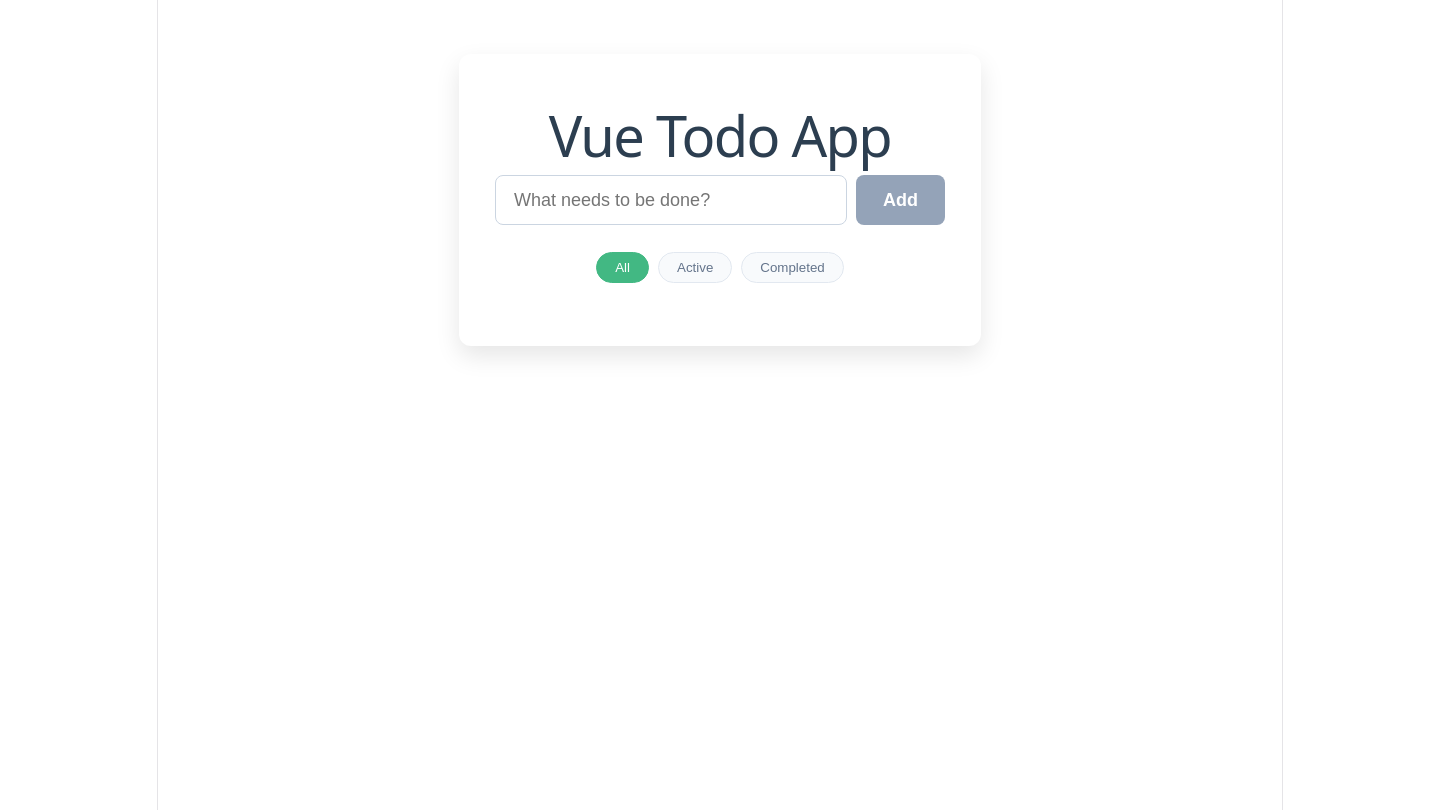
Test: App.vue Integration › allows user to add a new todo and displays it in the list
// ค้นหาช่อง Input, จำลองการพิมพ์ และกด Submit (Enter)
Type "Learn Integration Testing" into the field with placeholder "What needs to be done?" at (671, 200), box [495,175,847,225]
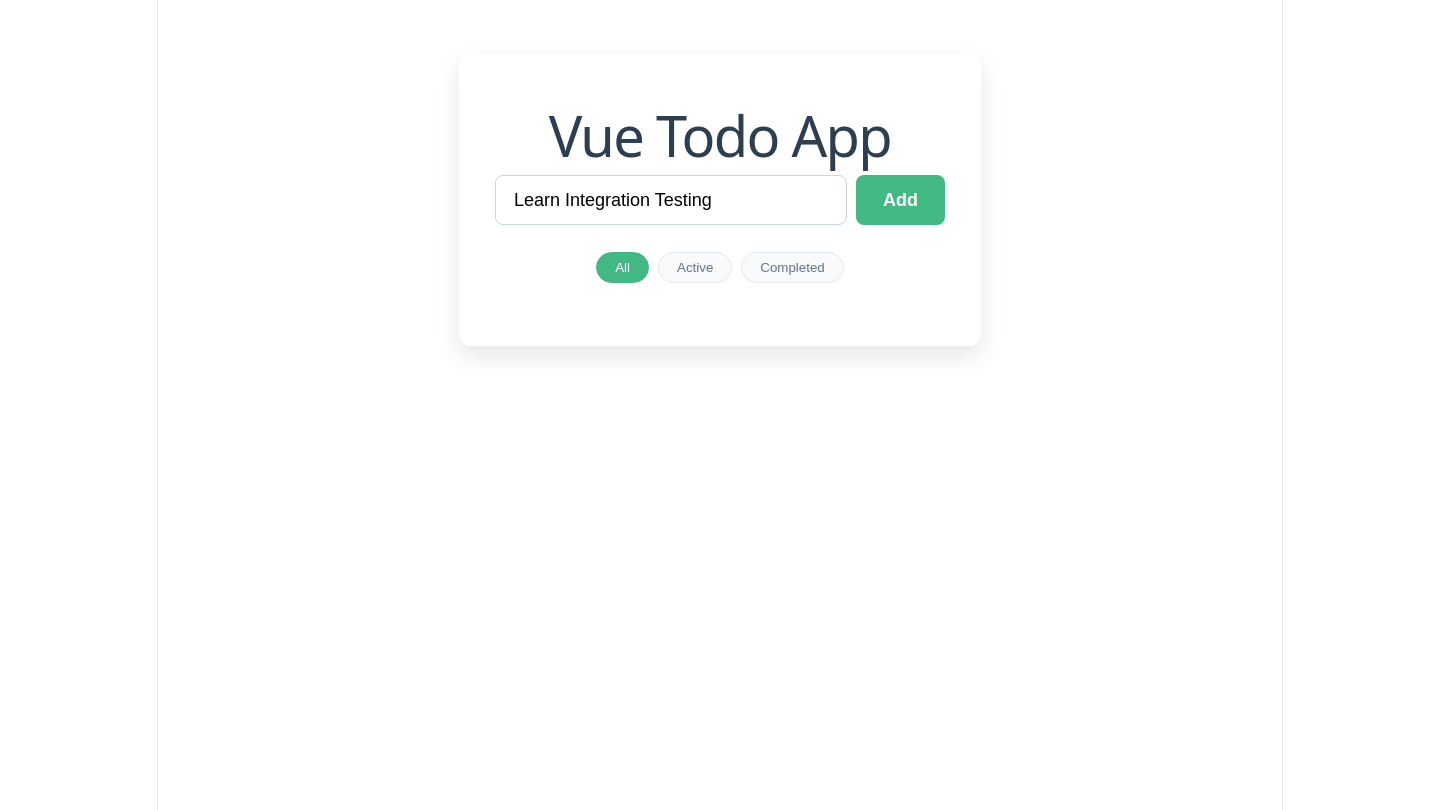
Submit the form, box [495,175,945,225]
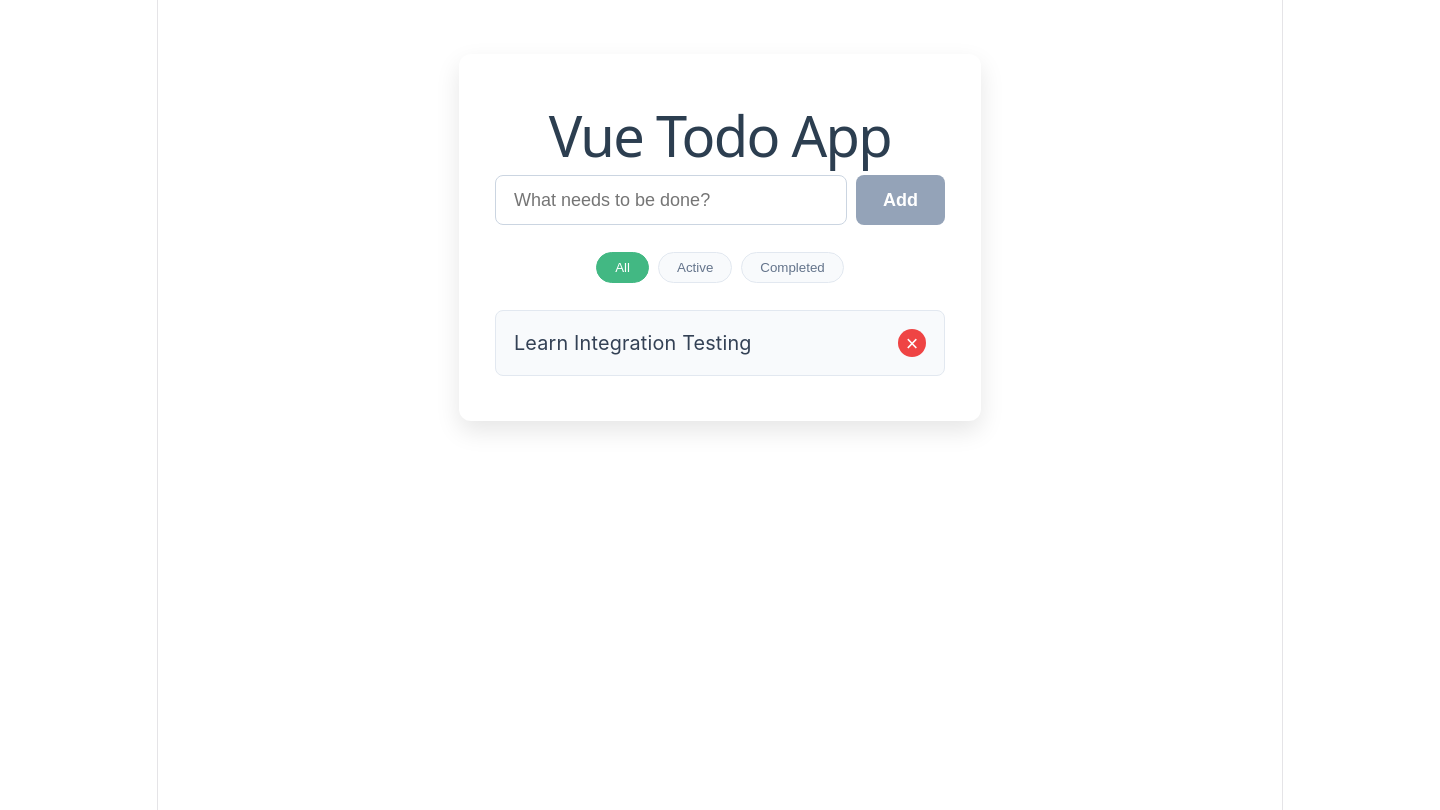
Expected: the number of list items is 1, [495,310,945,376]
Expected: the list item "Learn Integration Testing ×" is shown, [495,310,945,376]
